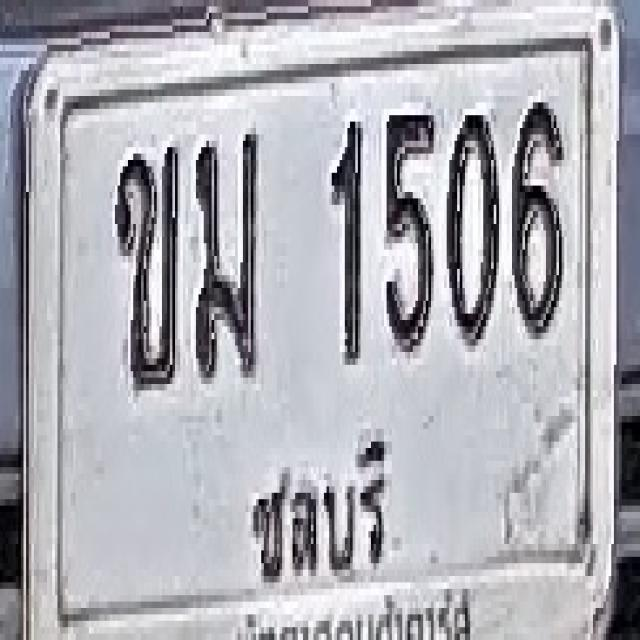-: (193, 131, 259, 381), (114, 144, 179, 387)
0: (446, 108, 498, 346)
1: (329, 115, 363, 365)
5: (384, 109, 434, 352)
6: (511, 99, 563, 336)
